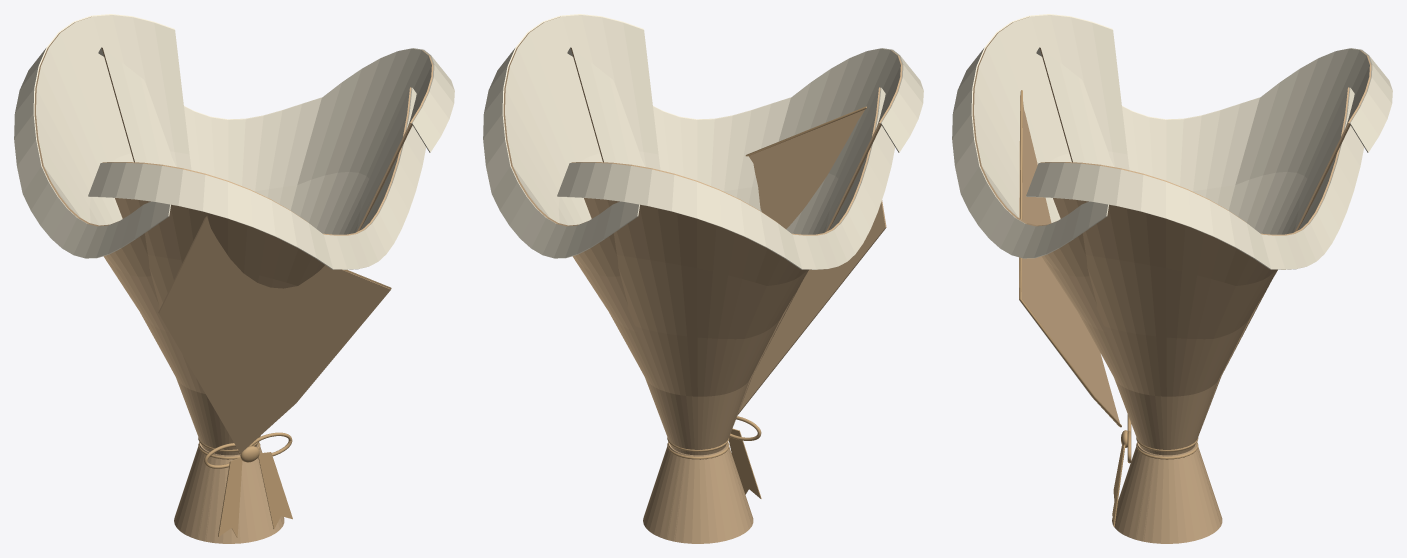
Rendered from bouquet_paper.glb.
The picture shows the model from 3 angles, left to right: view 1: azimuth 30°, elevation 25°; view 2: azimuth 150°, elevation 25°; view 3: azimuth 270°, elevation 25°; orthographic projection.
Visible parts, largest first — view 1: Open_folded_paper_sheet.001, Overlapping_diagonal_front_flap, Open_folded_paper_sheet.002, Visible_cream_folded_lapel, Open_folded_paper_sheet, Visible_cream_folded_lapel.002, Folded_lower_skirt, Visible_cream_folded_lapel.001, Folded_lower_skirt.002, Downward_notched_ribbon.001, Downward_notched_ribbon; view 2: Open_folded_paper_sheet.002, Open_folded_paper_sheet.001, Open_folded_paper_sheet, Visible_cream_folded_lapel.002, Overlapping_diagonal_front_flap, Visible_cream_folded_lapel.001, Folded_lower_skirt.002, Folded_lower_skirt.001, Visible_cream_folded_lapel, Downward_notched_ribbon; view 3: Open_folded_paper_sheet.001, Open_folded_paper_sheet.002, Open_folded_paper_sheet, Visible_cream_folded_lapel.001, Visible_cream_folded_lapel, Overlapping_diagonal_front_flap, Folded_lower_skirt.001, Folded_lower_skirt, Visible_cream_folded_lapel.002, Diagonal_fold_seam.
Boxes of the visible parts, x1,y1,x2,y2 form: Open_folded_paper_sheet.001: (101,47,433,444); Overlapping_diagonal_front_flap: (158,216,390,453); Open_folded_paper_sheet.002: (34,15,220,454); Visible_cream_folded_lapel: (88,87,426,269); Open_folded_paper_sheet: (102,87,411,455); Visible_cream_folded_lapel.002: (14,14,174,258); Folded_lower_skirt: (191,443,284,543); Visible_cream_folded_lapel.001: (98,47,454,152); Folded_lower_skirt.002: (174,442,220,542); Downward_notched_ribbon.001: (258,452,292,529); Downward_notched_ribbon: (218,457,242,537); Open_folded_paper_sheet.002: (571,87,880,455); Open_folded_paper_sheet.001: (503,15,689,454); Open_folded_paper_sheet: (570,47,902,444); Visible_cream_folded_lapel.002: (557,87,895,269); Overlapping_diagonal_front_flap: (737,109,886,415); Visible_cream_folded_lapel.001: (483,14,643,258); Folded_lower_skirt.002: (660,443,753,543); Folded_lower_skirt.001: (643,443,689,542); Visible_cream_folded_lapel: (567,47,923,152); Downward_notched_ribbon: (729,428,761,498); Open_folded_paper_sheet.001: (1040,87,1349,455); Open_folded_paper_sheet.002: (1039,47,1371,438); Open_folded_paper_sheet: (972,15,1158,454); Visible_cream_folded_lapel.001: (1026,87,1364,269); Visible_cream_folded_lapel: (952,14,1112,258); Overlapping_diagonal_front_flap: (1019,95,1119,425); Folded_lower_skirt.001: (1129,443,1222,543); Folded_lower_skirt: (1112,442,1158,542); Visible_cream_folded_lapel.002: (1036,47,1392,152); Diagonal_fold_seam: (1019,90,1121,427).
Bounding box in the file's own units: 0.3522 × 0.3962 × 0.3606.
